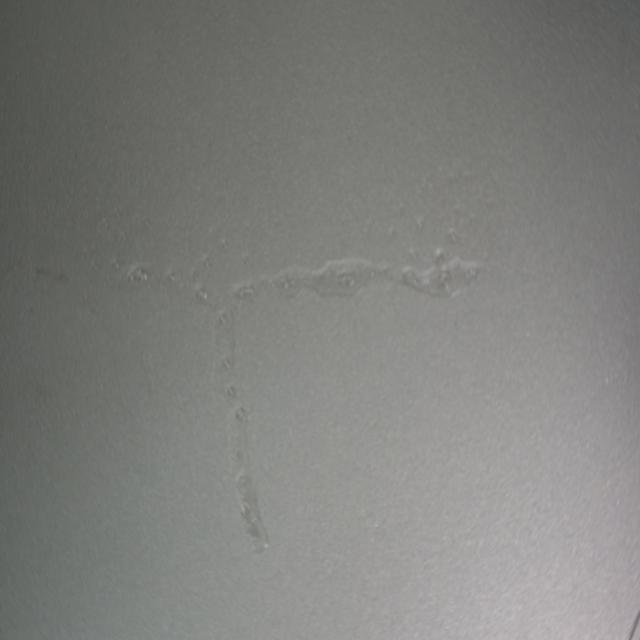runs: (122, 258, 483, 551)
